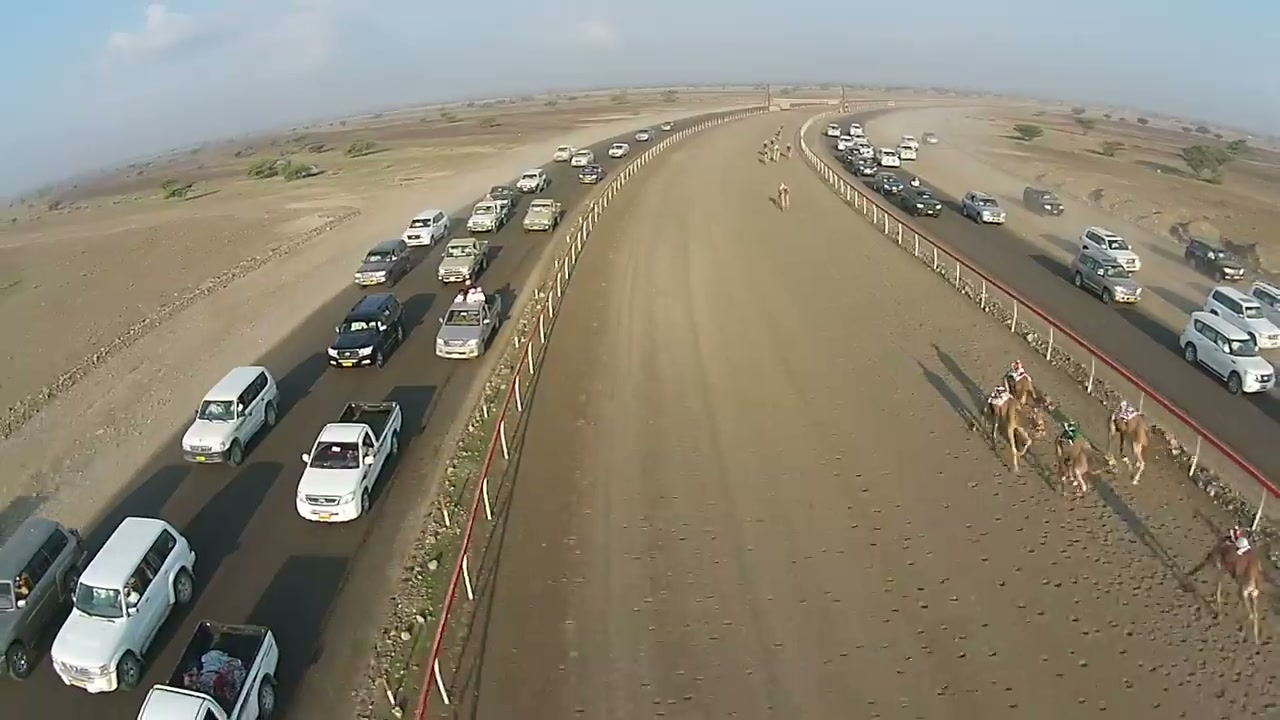animal_foot_print: (833, 473, 1128, 718), (1035, 478, 1279, 689)
